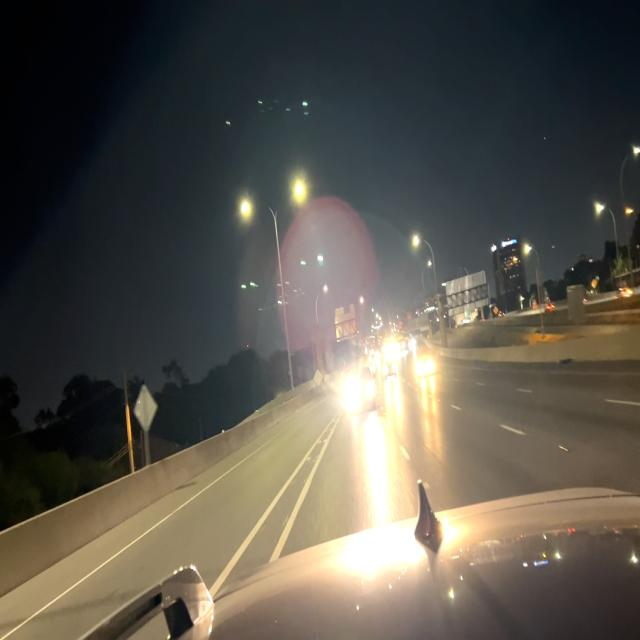back-of-sign: (446, 268, 490, 315), (133, 385, 157, 431), (334, 303, 357, 342)
